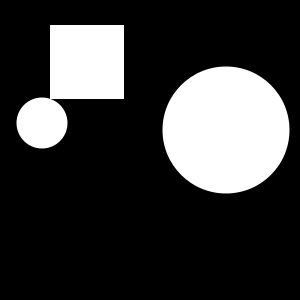circle: (50, 25, 124, 99)
rectangle: (162, 66, 290, 194), (17, 97, 68, 148)
